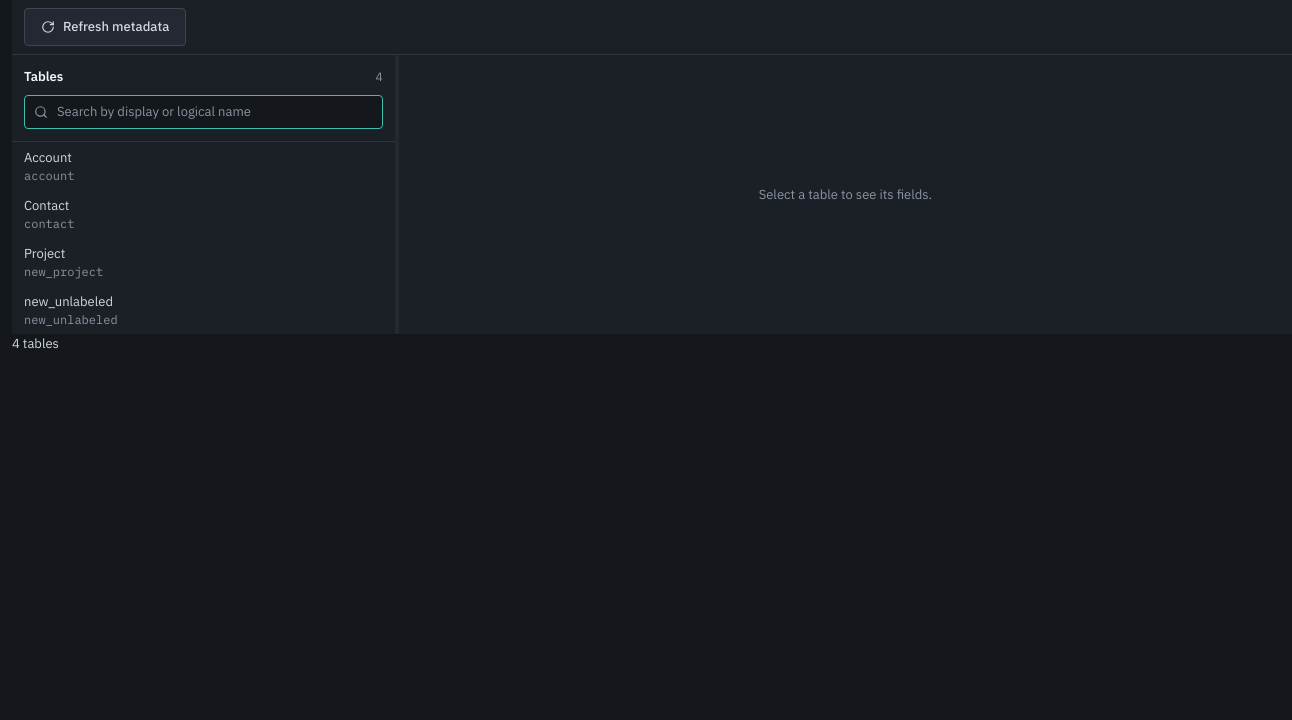
Attribute Explorer › does not retry a failed fields request automatically
What coordinates should you click on to do the following:
click the button "Account account"
I would click on:
 (48, 158)
Its box is [12,142,395,190].
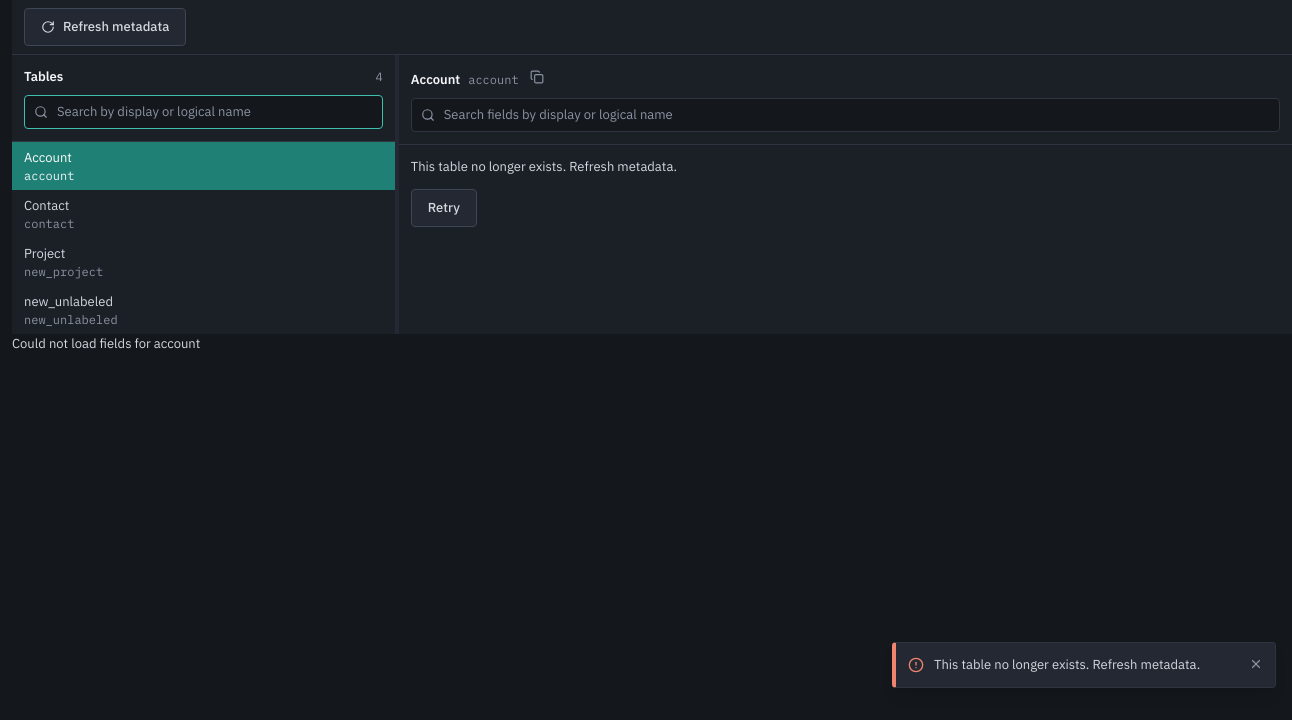
Expected: the 1st message "This table no longer exists. Refresh metadata." is shown, [411,157,677,177]
